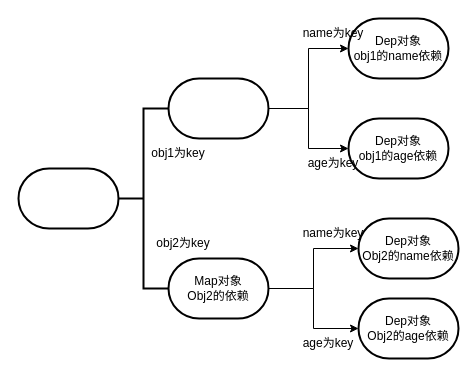
This 476x376 diagram has some shape labels left out. Each missing label, with the box of its shape:
Map对象 Obj1的依赖: (167, 77, 269, 139)
WeakMap对象 objMap: (17, 167, 119, 229)
